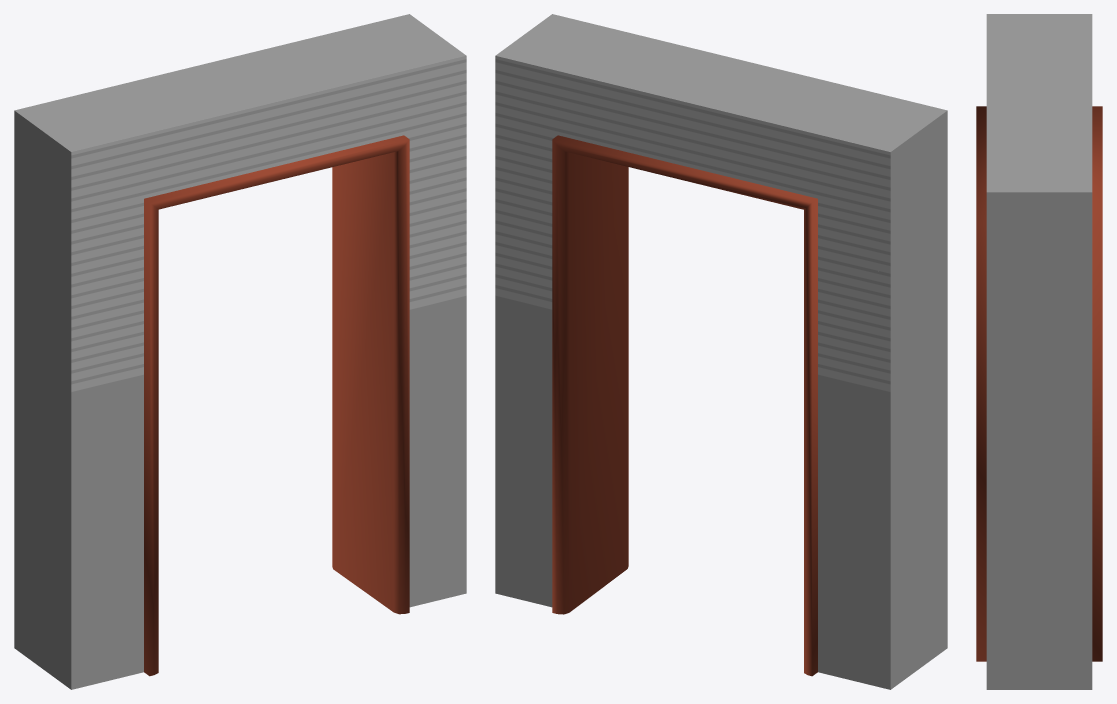
The model's file is Wand_Durchgang.fbx.
3 views of the same model, side by side, from view 1: azimuth 30°, elevation 25°; view 2: azimuth 150°, elevation 25°; view 3: azimuth 270°, elevation 25° (orthographic). The views are drawn at different scales.
Parts seen in each view (by area): view 1: Wand Durchgang, Durchgang.002; view 2: Wand Durchgang, Durchgang.002; view 3: Wand Durchgang, Durchgang.002.
Part boxes in pixels (box(x1,y1,x2,y2)): Wand Durchgang: box(14, 14, 466, 689); Durchgang.002: box(144, 135, 409, 676); Wand Durchgang: box(495, 14, 947, 689); Durchgang.002: box(552, 135, 817, 676); Wand Durchgang: box(986, 14, 1092, 689); Durchgang.002: box(976, 106, 1102, 661).
Bounding box in the file's own units: 200 × 260 × 59.82.
